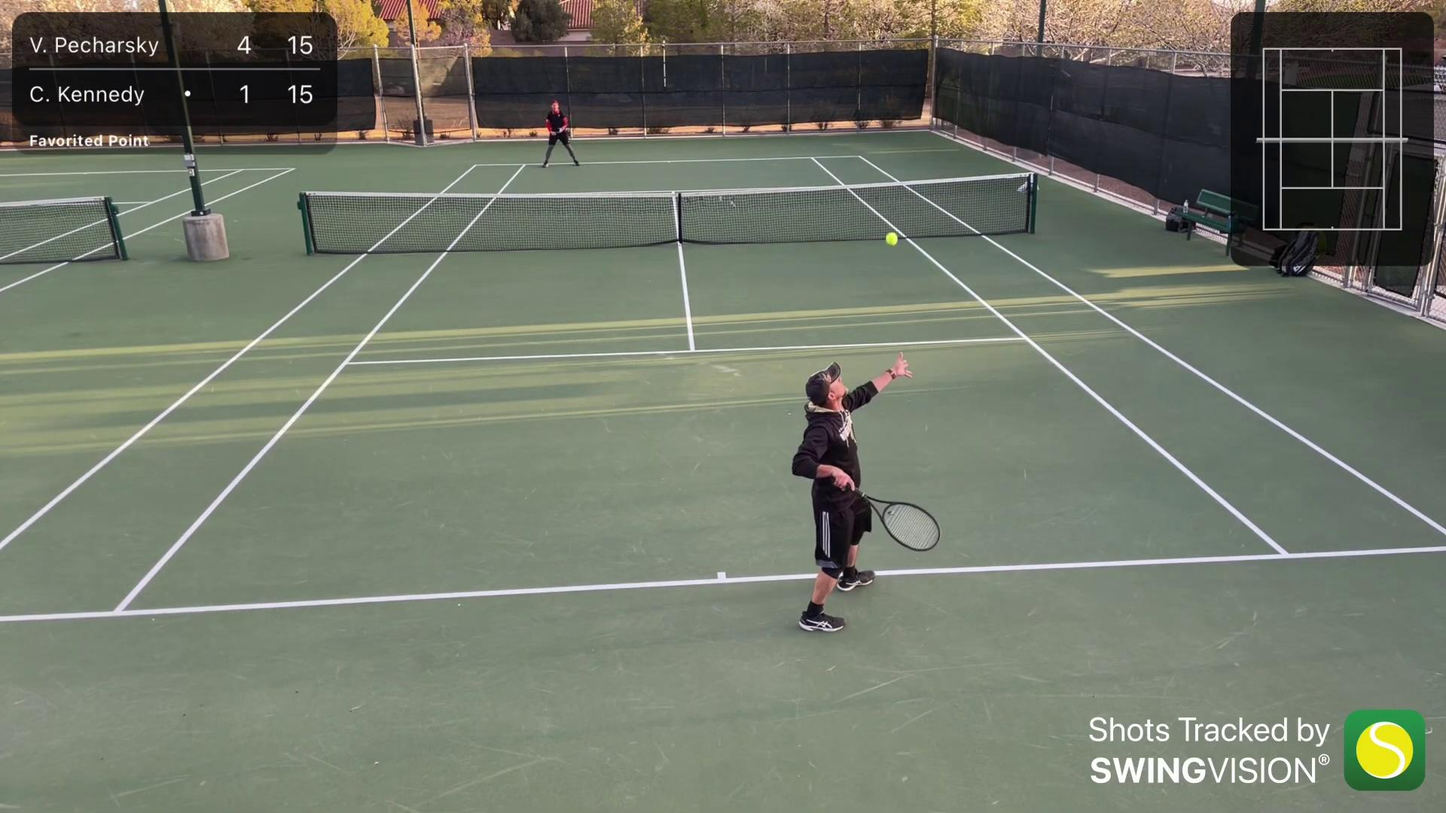ball: (883, 230, 901, 248)
